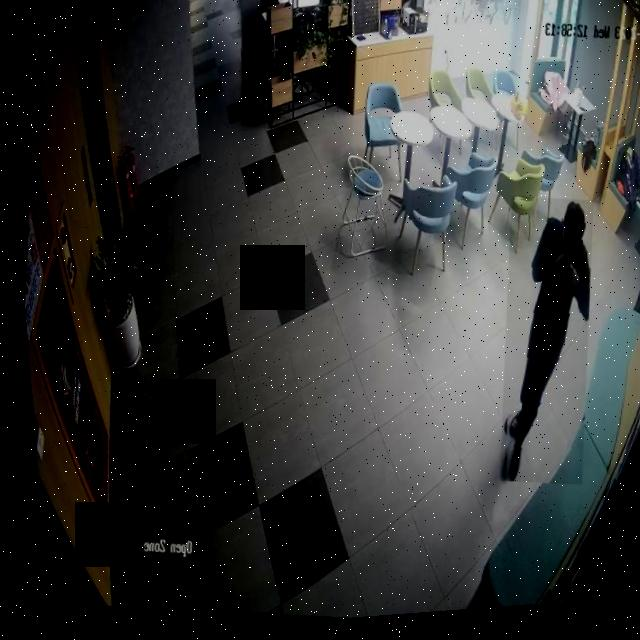person: (472, 199, 607, 497)
